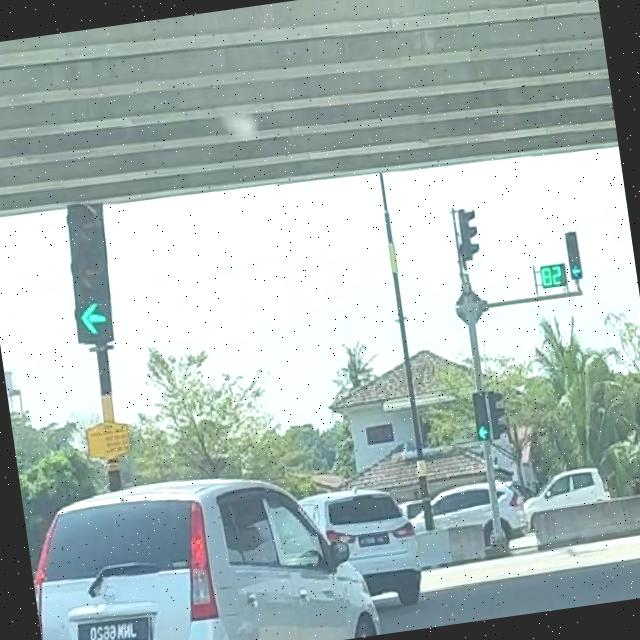green_light: (56, 198, 121, 344), (472, 391, 492, 440), (564, 230, 583, 280)
